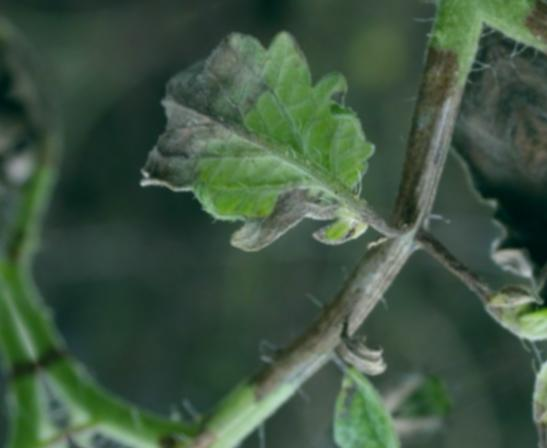Tomato leaf late blight: (95, 0, 414, 305)
